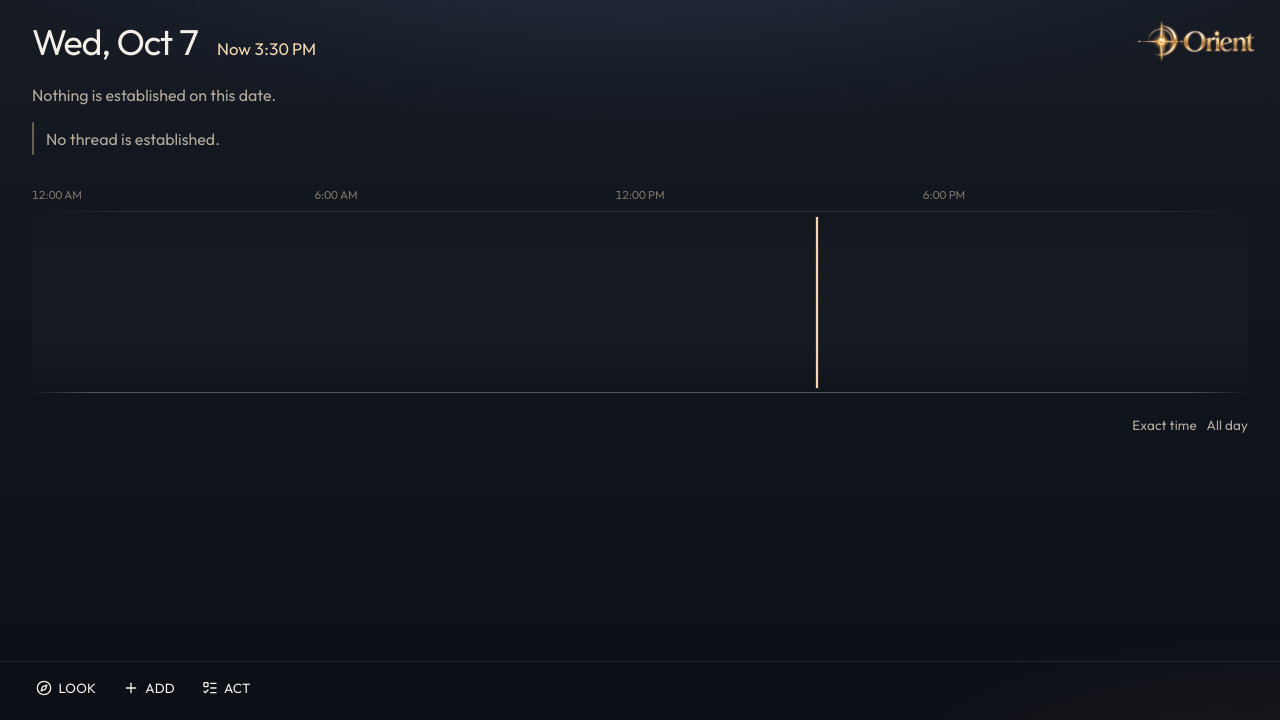
Scenario: cross-form-factor semantic parity › desktop LOOK reaches temporal question, position, focus, Notes, Stewardship, Recurring, Work, Google Calendar
Click the button "LOOK" at (66, 688), box [24, 668, 108, 708]
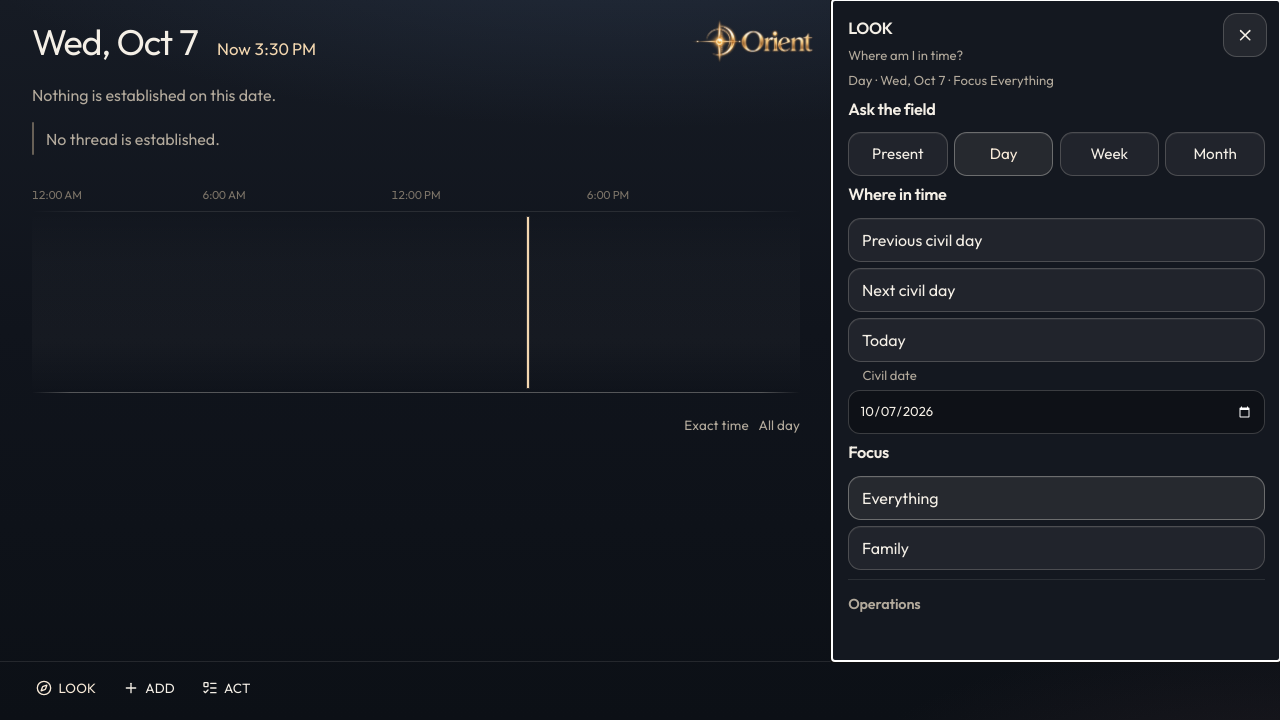
Expected: the text "Day · Wed, Oct 7 · Focus Everything" is shown, [848, 71, 1054, 91]
Expected: the element showing "Operations" is shown, [848, 579, 1265, 621]
Expected: the element showing "Ask the field Present Day Week Month" is shown, [848, 97, 1265, 176]
